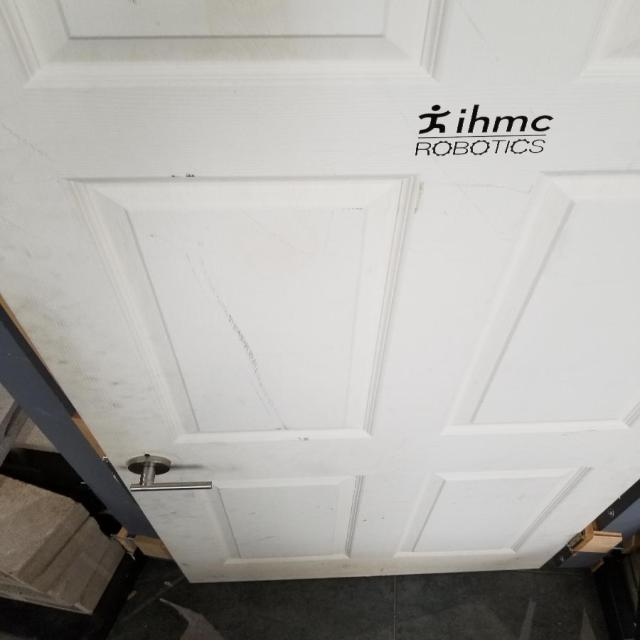doorhandle: (124, 454, 216, 496)
